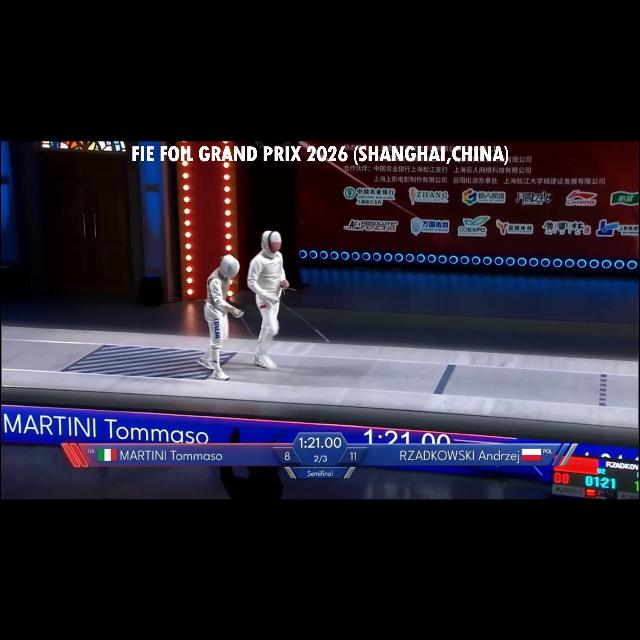blade: (272, 296, 334, 346), (232, 307, 258, 343)
